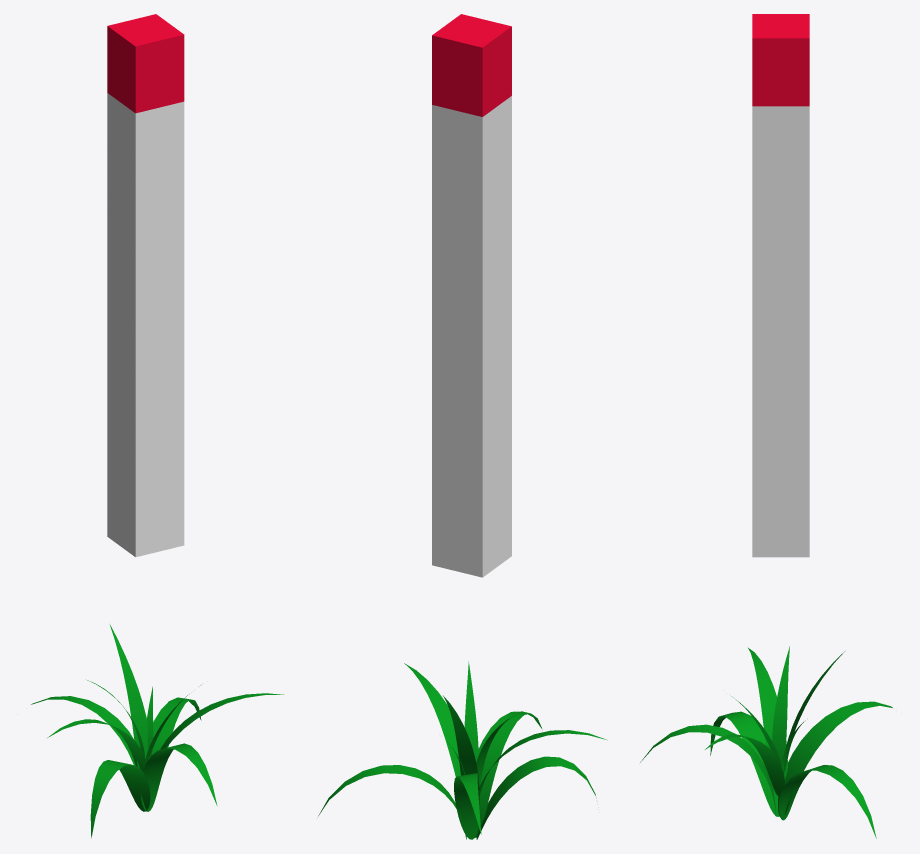
The model's file is Weightpaint_ScreenUI_test1.glb.
3 renders of one model, left to right at view 1: azimuth 30°, elevation 25°; view 2: azimuth 150°, elevation 25°; view 3: azimuth 270°, elevation 25°, orthographic. The views are drawn at different scales.
Visible parts, largest first — view 1: Cube, flower; view 2: Cube, flower; view 3: Cube, flower.
Part boxes in pixels (left/top/right/bottom): Cube: left=107, top=14, right=184, bottom=557; flower: left=31, top=624, right=283, bottom=838; Cube: left=432, top=14, right=511, bottom=577; flower: left=318, top=661, right=607, bottom=839; Cube: left=752, top=14, right=809, bottom=557; flower: left=640, top=646, right=892, bottom=838.
Bounding box in the file's own units: 0.9017 × 3.05 × 0.9323.
Materials: 2 (1 with a texture image).
